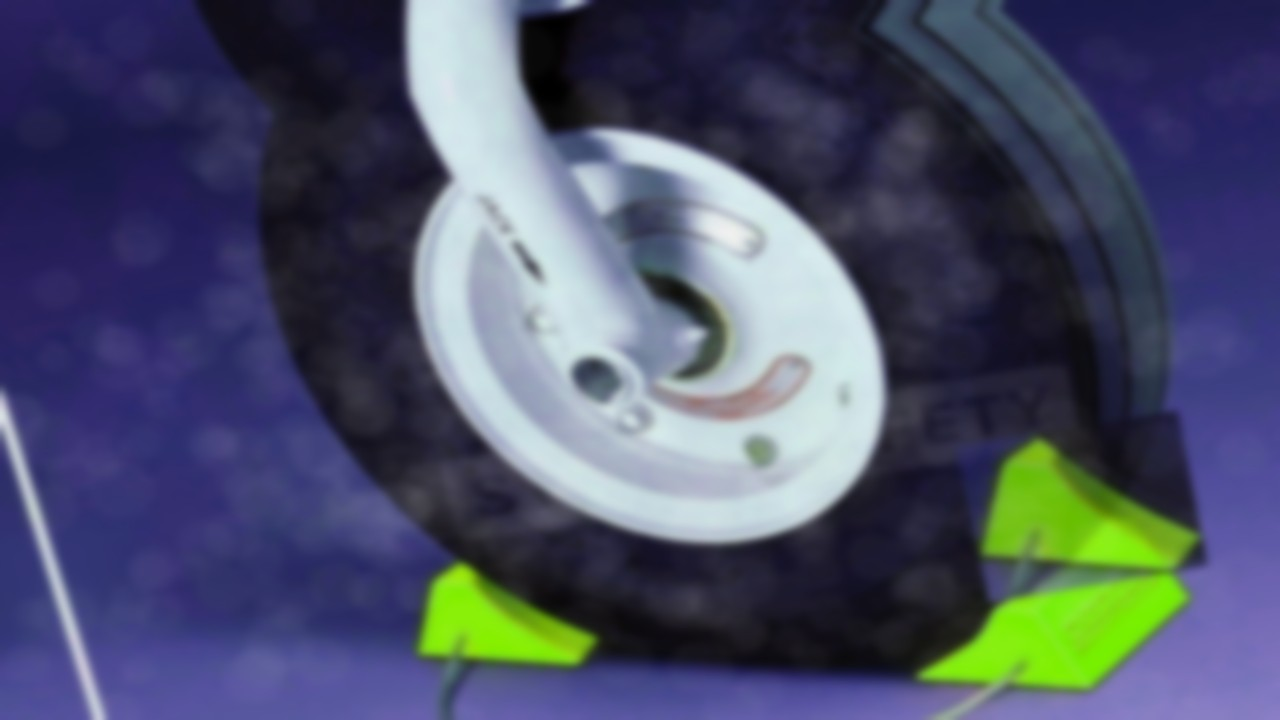chock: (886, 504, 1213, 720), (956, 410, 1211, 604), (392, 539, 607, 693)
wheel: (201, 0, 1249, 720)
